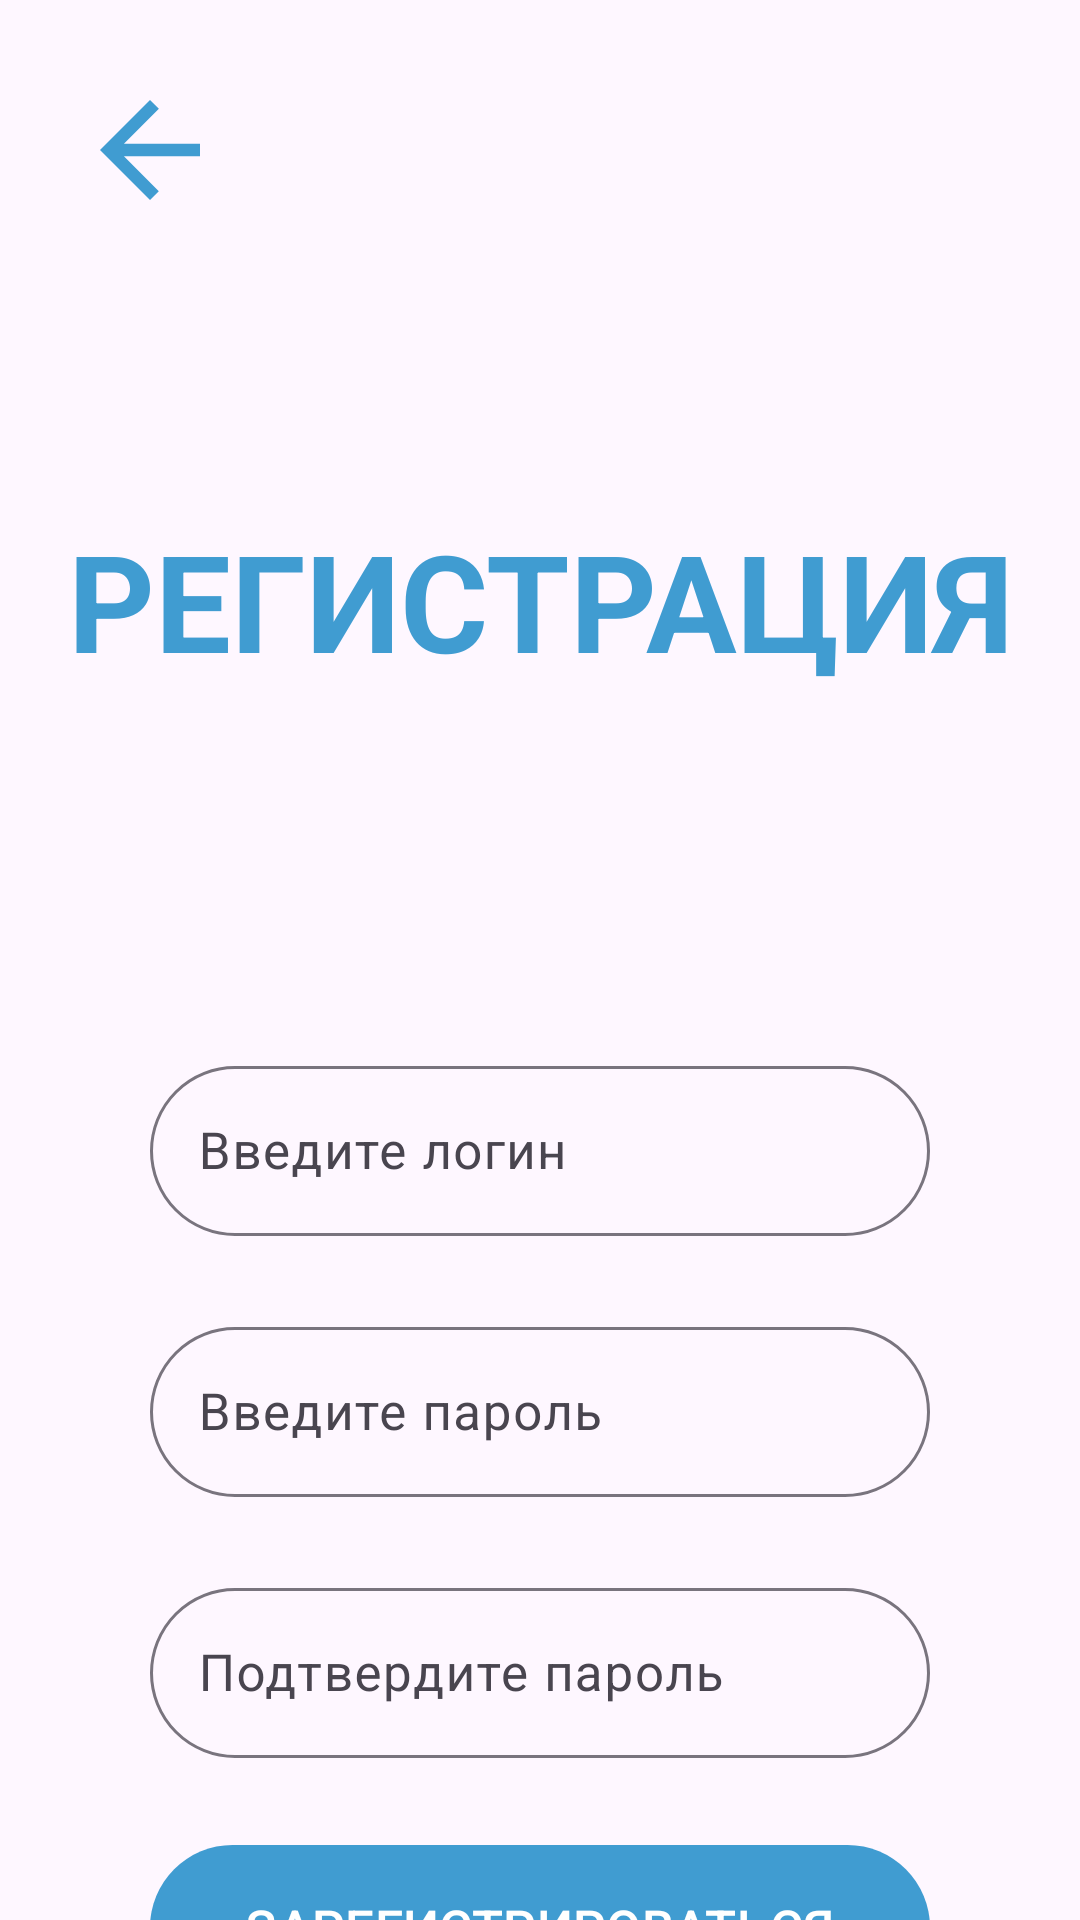

Screen size 1080 x 1920. Icon name, then its center in pixels as point (x, y):
arrow: point (150, 150)
